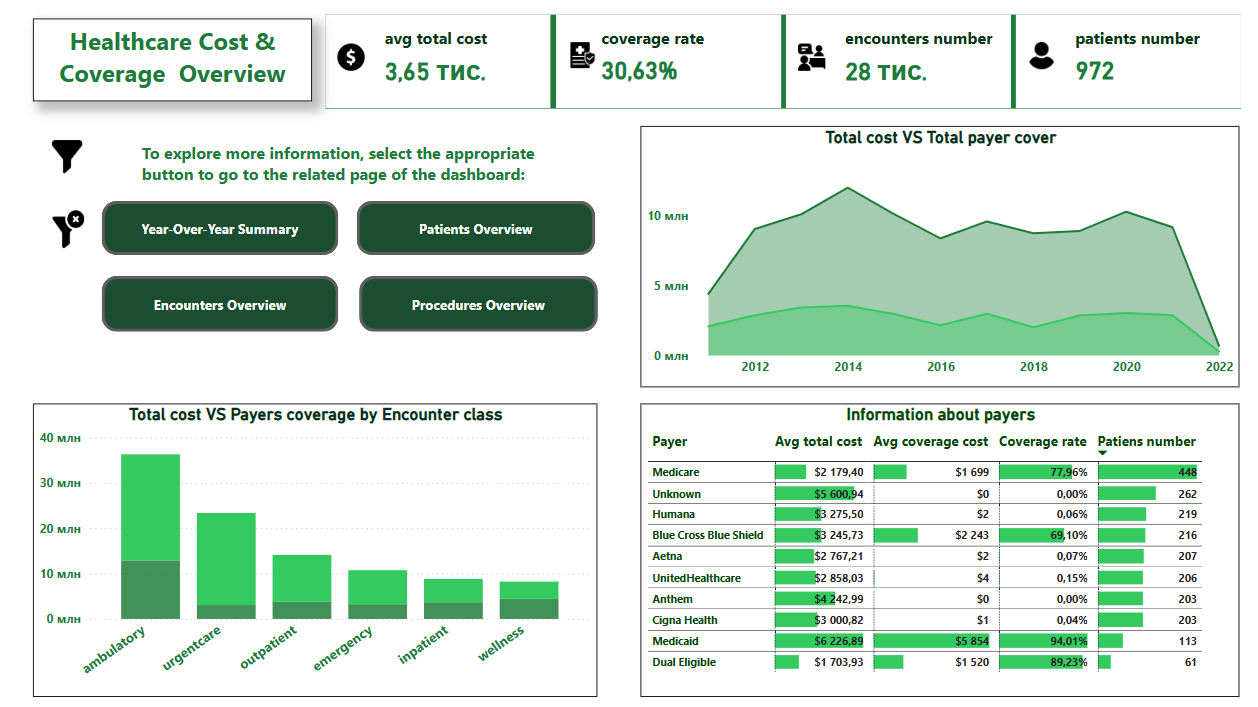

What the dashboard file says about the page in this screenshot:
{"tool":"powerbi","page":{"name":"Healthcare Cost","canvas":[1280,720],"ordinal":0},"visuals":[{"type":"cardVisual","fields":{"Data":["_measures (2).avg total cost","_measures (2).coverage rate","_measures (2).number of encounters","_measures (2).number of patients"]},"box":[340.7,18.2,922.9,103.3],"z":0},{"type":"areaChart","title":"Total cost VS Total payer cover ","fields":{"Category":["date_table.Year Ієрархія.Year","date_table.Year Ієрархія.Month"],"Y":["_measures (2).total cost","_measures (2).total payer cover"]},"box":[659,134,596.2,259.7],"z":1000},{"type":"columnChart","title":"Total cost VS Payers coverage  by Encounter class","fields":{"Category":["encounters.encounter_class"],"Y":["_measures (2).total payer cover","_measures (2).total payer dont cover"]},"box":[54.5,410.5,561.3,291.8],"z":2000},{"type":"tableEx","title":"Information about payers","fields":{"Values":["payers.payer_name","_measures (2).avg total cost","_measures (2).avg payer coverage","_measures (2).coverage rate","_measures (2).number of patients"]},"box":[659,410.5,596.2,291.8],"z":3000},{"type":"actionButton","box":[107.8,50.4,99.1,40],"z":4000},{"type":"textbox","title":"Healthcare Cost & Coverage  Overview","box":[54.5,27.9,277.8,82.4],"z":5000},{"type":"textbox","box":[157.6,143.7,422.5,60.6],"z":6000},{"type":"actionButton","box":[379.2,284,237.2,55.4],"z":7000},{"type":"actionButton","box":[63.6,134.5,50.6,59.3],"z":8000},{"type":"actionButton","box":[377.5,209.5,237.2,53.7],"z":9000},{"type":"actionButton","box":[65.1,209.7,50.6,53.5],"z":9500},{"type":"actionButton","box":[122.9,209.5,235.5,53.7],"z":10000},{"type":"actionButton","box":[122.9,284,235.5,55.4],"z":11000}]}

Visuals, with their boxes in screenshot pixels (x1, y1, x2, y2), scaled from the page's 1280x720 canvas onto the 1258x707 screenshot:
cardVisual - _measures (2).avg total cost x _measures (2).coverage rate: box(335, 18, 1242, 119)
"Total cost VS Total payer cover " areaChart: box(648, 132, 1234, 387)
"Total cost VS Payers coverage  by Encounter class" columnChart: box(54, 403, 605, 690)
"Information about payers" tableEx: box(648, 403, 1234, 690)
actionButton: box(106, 49, 203, 89)
"Healthcare Cost & Coverage  Overview" textbox: box(54, 27, 327, 108)
textbox: box(155, 141, 570, 201)
actionButton: box(373, 279, 606, 333)
actionButton: box(63, 132, 112, 190)
actionButton: box(371, 206, 604, 258)
actionButton: box(64, 206, 114, 258)
actionButton: box(121, 206, 352, 258)
actionButton: box(121, 279, 352, 333)
